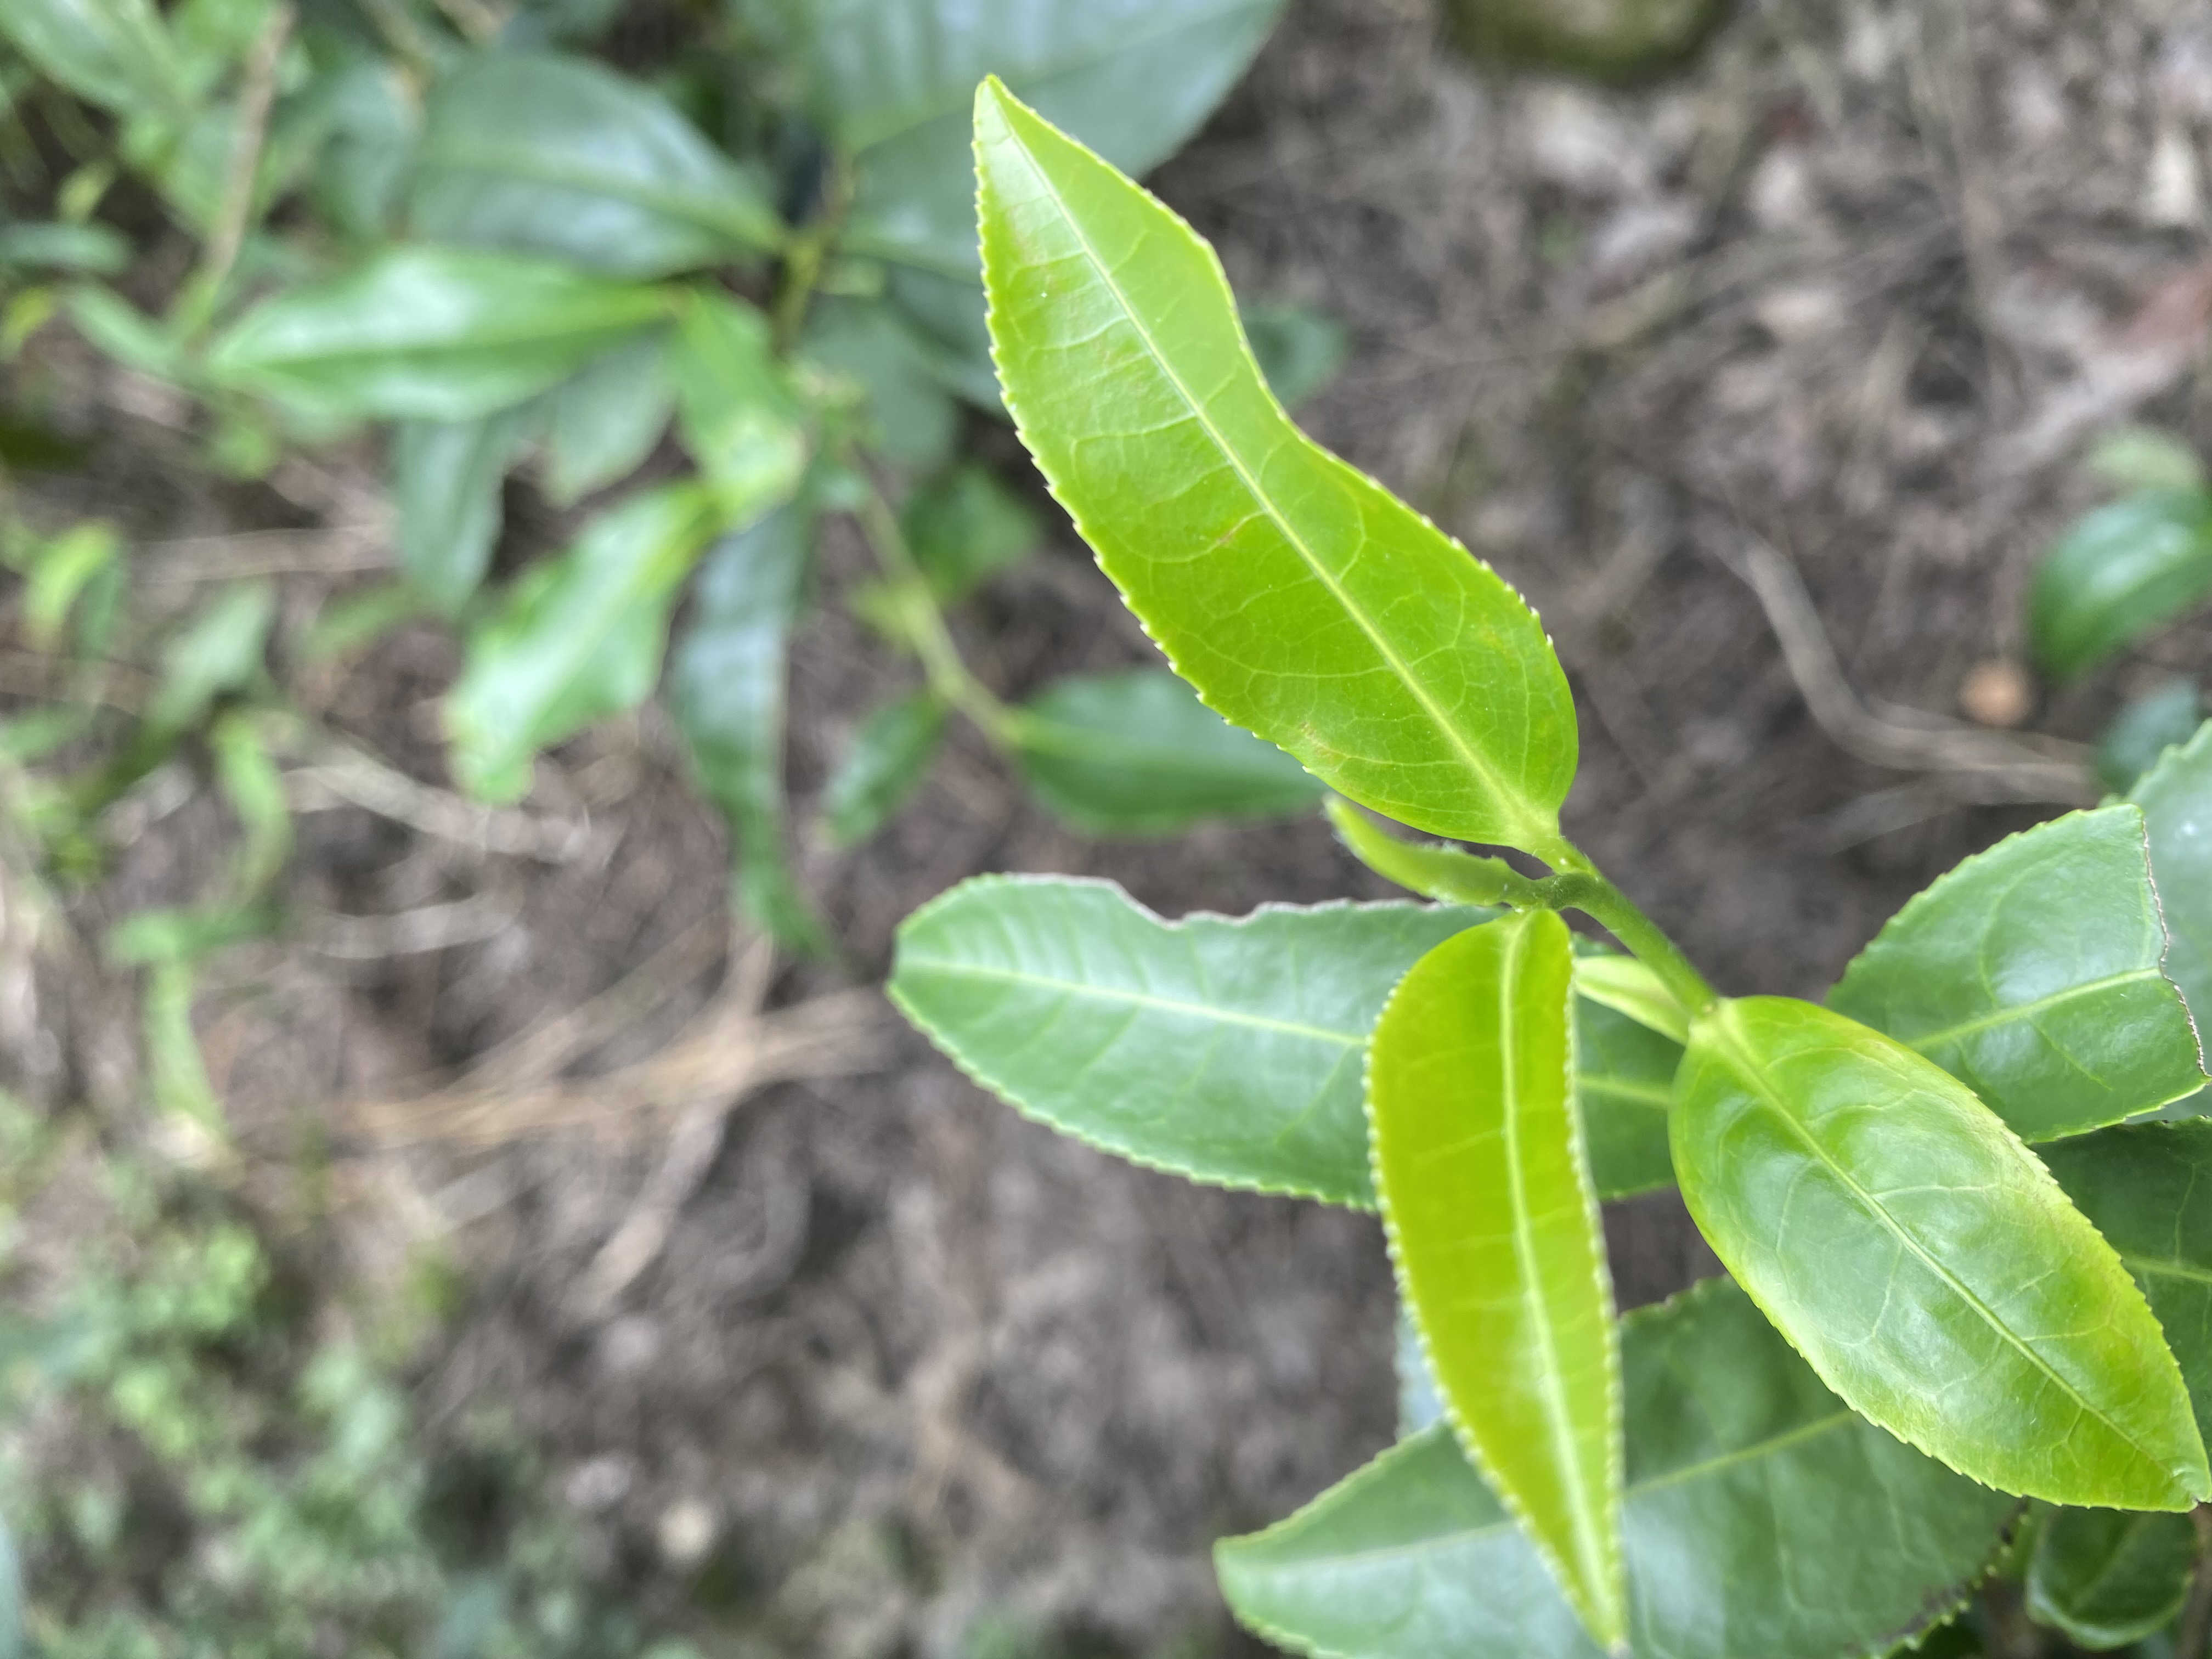chihuo_high: (1824, 802, 2210, 1150)
healthy: (968, 75, 1581, 843), (1665, 993, 2212, 1514), (885, 870, 1679, 1206), (1360, 904, 1632, 1654)
